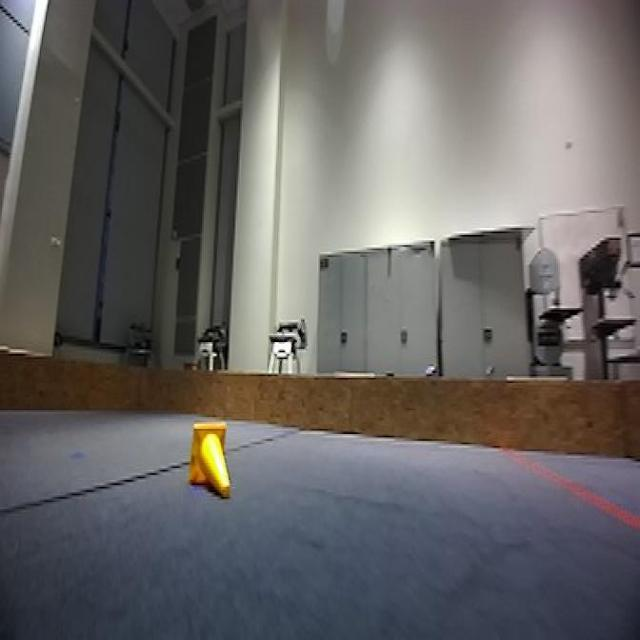frc_cone: (184, 417, 238, 504)
